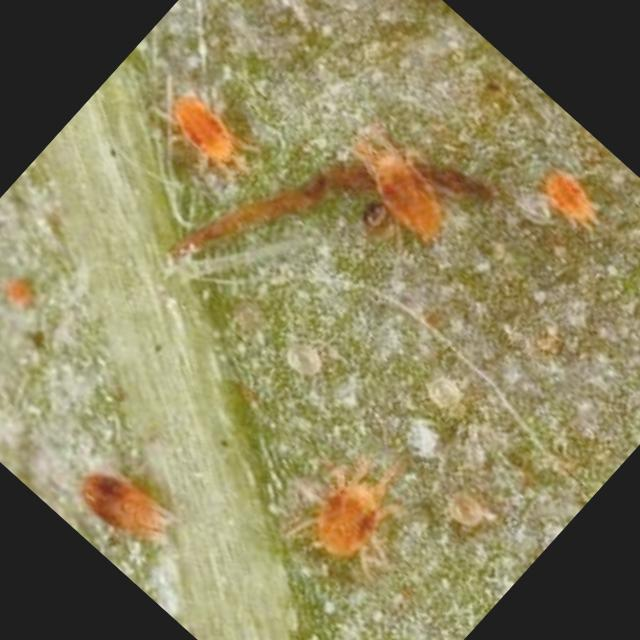spider mite: (34, 390, 234, 586), (316, 95, 488, 266), (272, 422, 440, 590), (490, 102, 640, 266), (116, 72, 267, 224), (0, 245, 76, 348)
